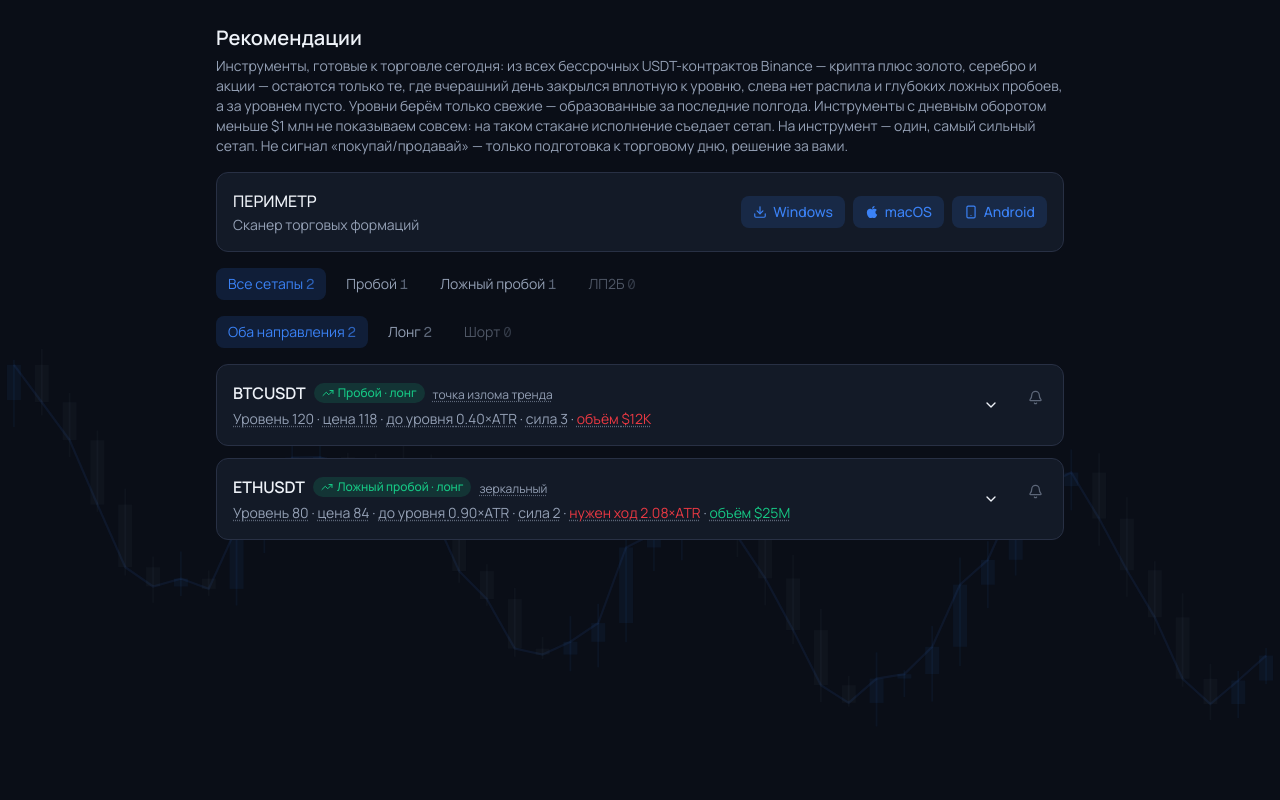
Test: RecommendationsPage › shows how many setups each filter button will leave
Expected: the text "Пробой · лонг" is shown, [314,383,425,403]
Expected: the button "Все сетапы 2" is shown, [216,268,326,300]
Click the button "Пробой 1".
click(377, 284)  # box [334,268,420,300]
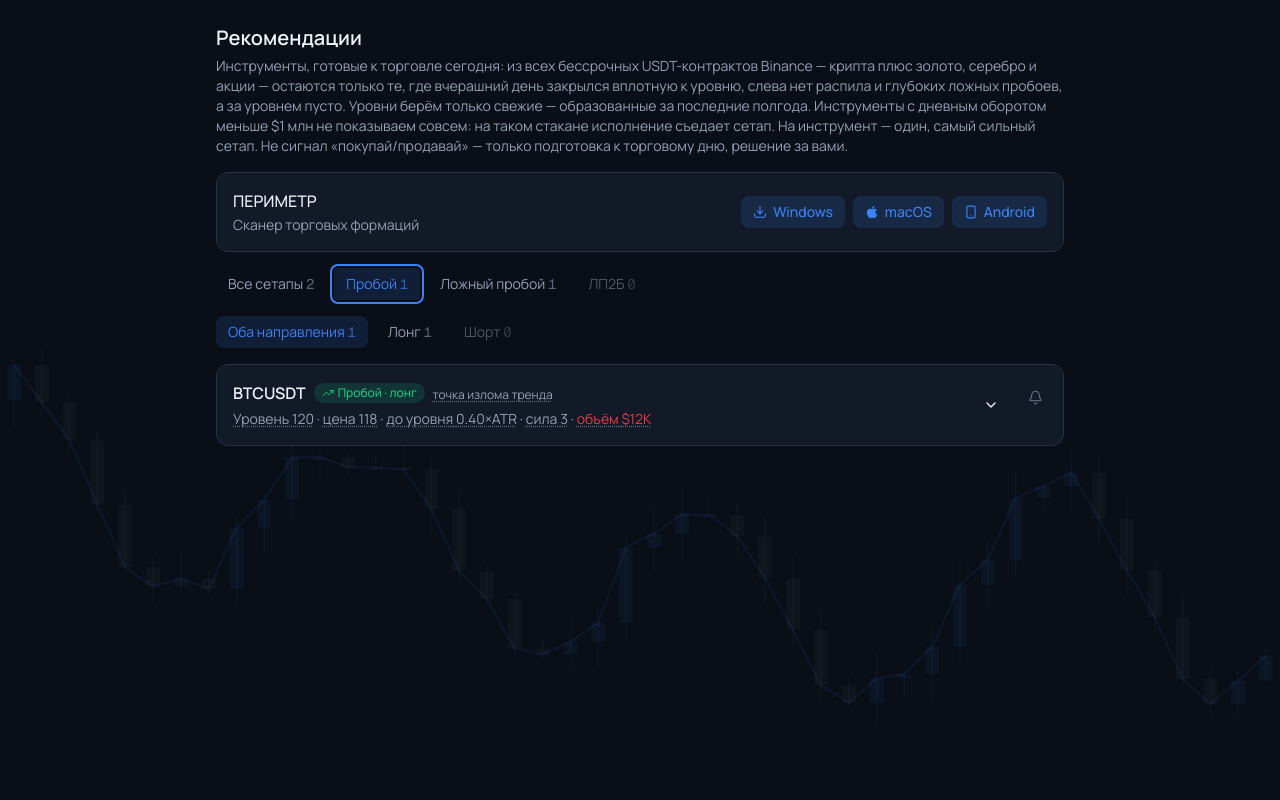
Result: the button "Лонг 1" is shown at [376,316,444,348]
